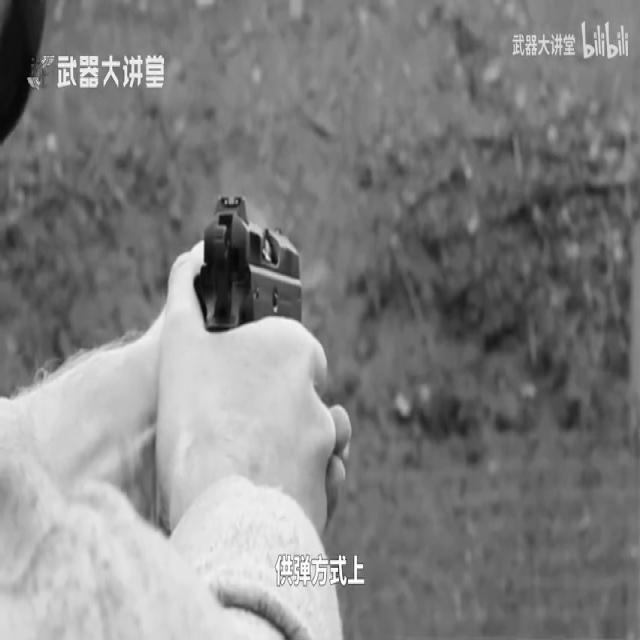Hand-Gun: (176, 170, 360, 466)
